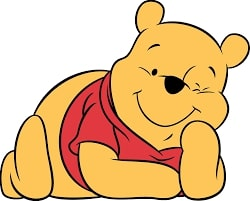Winnie: (83, 1, 250, 157)
